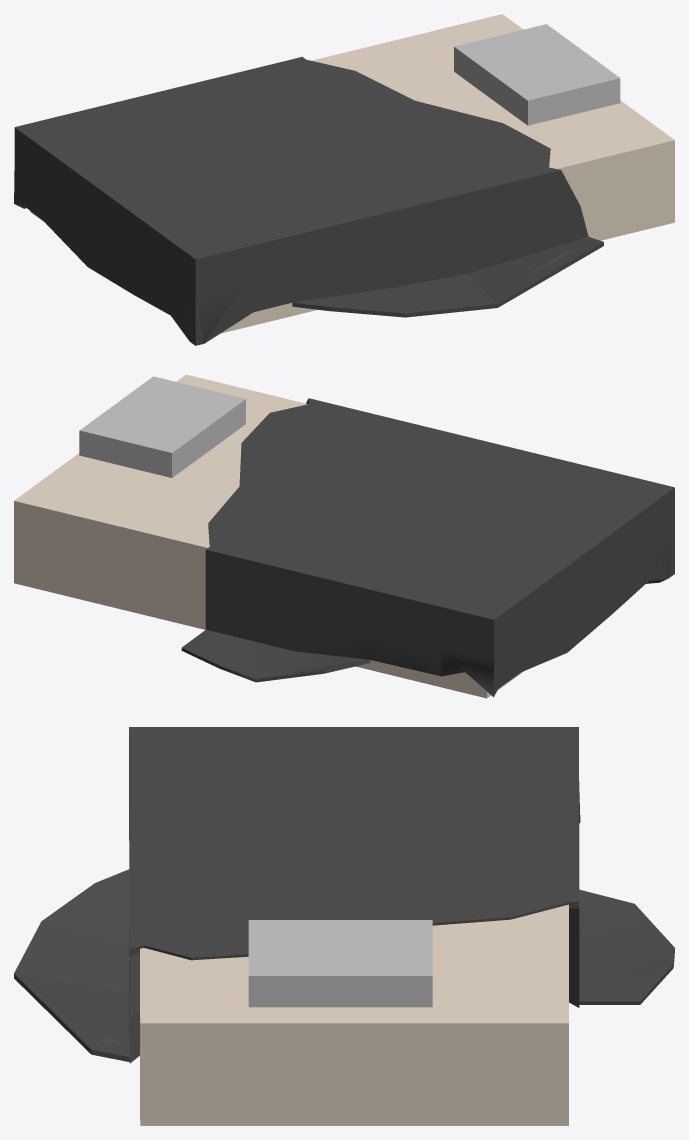
The model's file is Bed.fbx.
The picture shows the model from 3 angles, top to bottom: view 1: azimuth 30°, elevation 25°; view 2: azimuth 150°, elevation 25°; view 3: azimuth 270°, elevation 25°; orthographic projection. The views are drawn at different scales.
Parts seen in each view (by area): view 1: pCube46, pCube47, pCube43, pCube44; view 2: pCube46, pCube47, pCube43, pCube44; view 3: pCube46, pCube43, pCube47, pCube44.
Part boxes in pixels (left/top/right/bottom): pCube46: left=14, top=56, right=603, bottom=345; pCube47: left=14, top=57, right=588, bottom=345; pCube43: left=30, top=14, right=674, bottom=333; pCube44: left=454, top=24, right=620, bottom=125; pCube46: left=182, top=398, right=674, bottom=696; pCube47: left=181, top=398, right=674, bottom=696; pCube43: left=14, top=374, right=523, bottom=698; pCube44: left=79, top=376, right=245, bottom=477; pCube46: left=14, top=727, right=674, bottom=1063; pCube43: left=140, top=904, right=568, bottom=1125; pCube47: left=14, top=727, right=674, bottom=1036; pCube44: left=248, top=920, right=432, bottom=1007.
Bounding box in the file's own units: 208 × 48.67 × 197.
